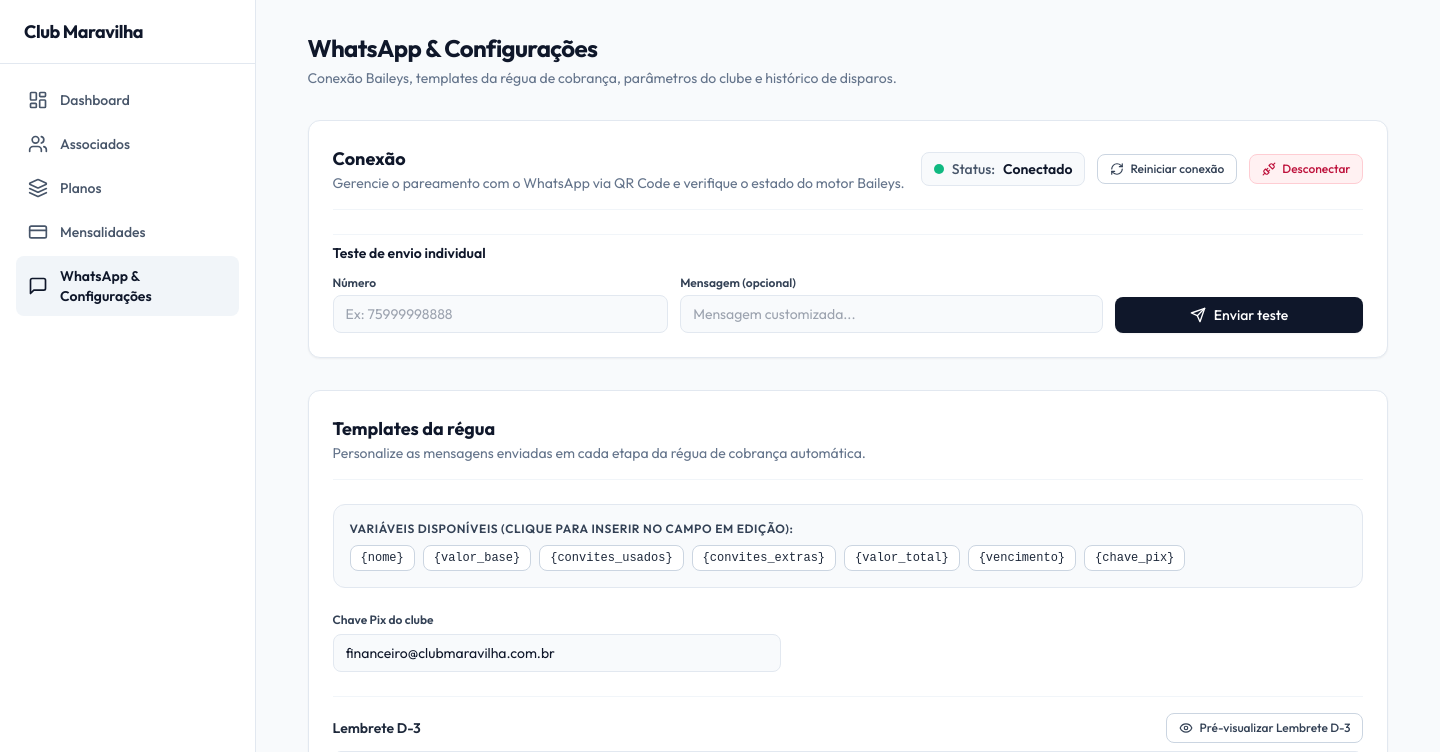
Test: WhatsAppConfigPage - teste de envio › envia número e mensagem e mostra sucesso
Type "75999998888" into the field labelled "Número" at (500, 314), box [332,295,668,333]
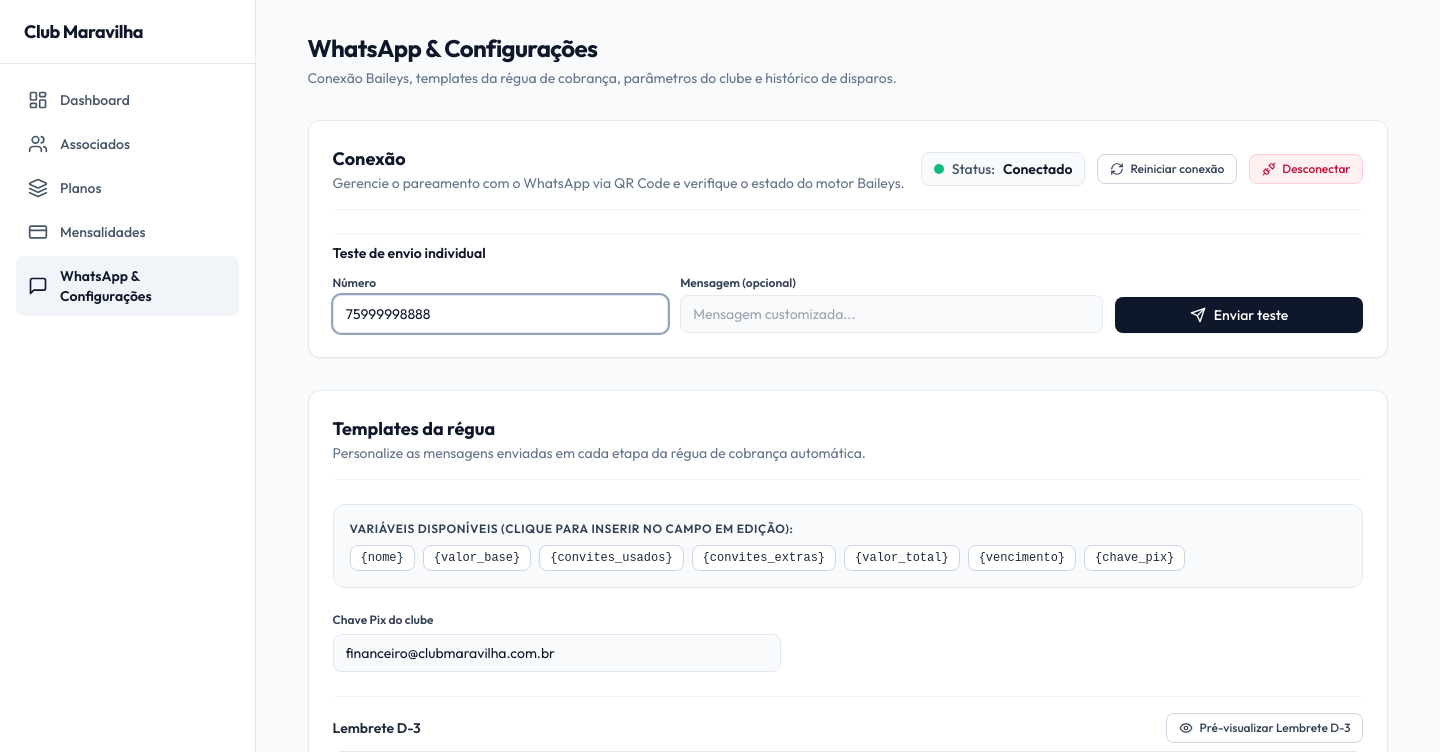
Type "Olá teste" into the field labelled "Mensagem (opcional)" at (891, 314), box [680,295,1103,333]
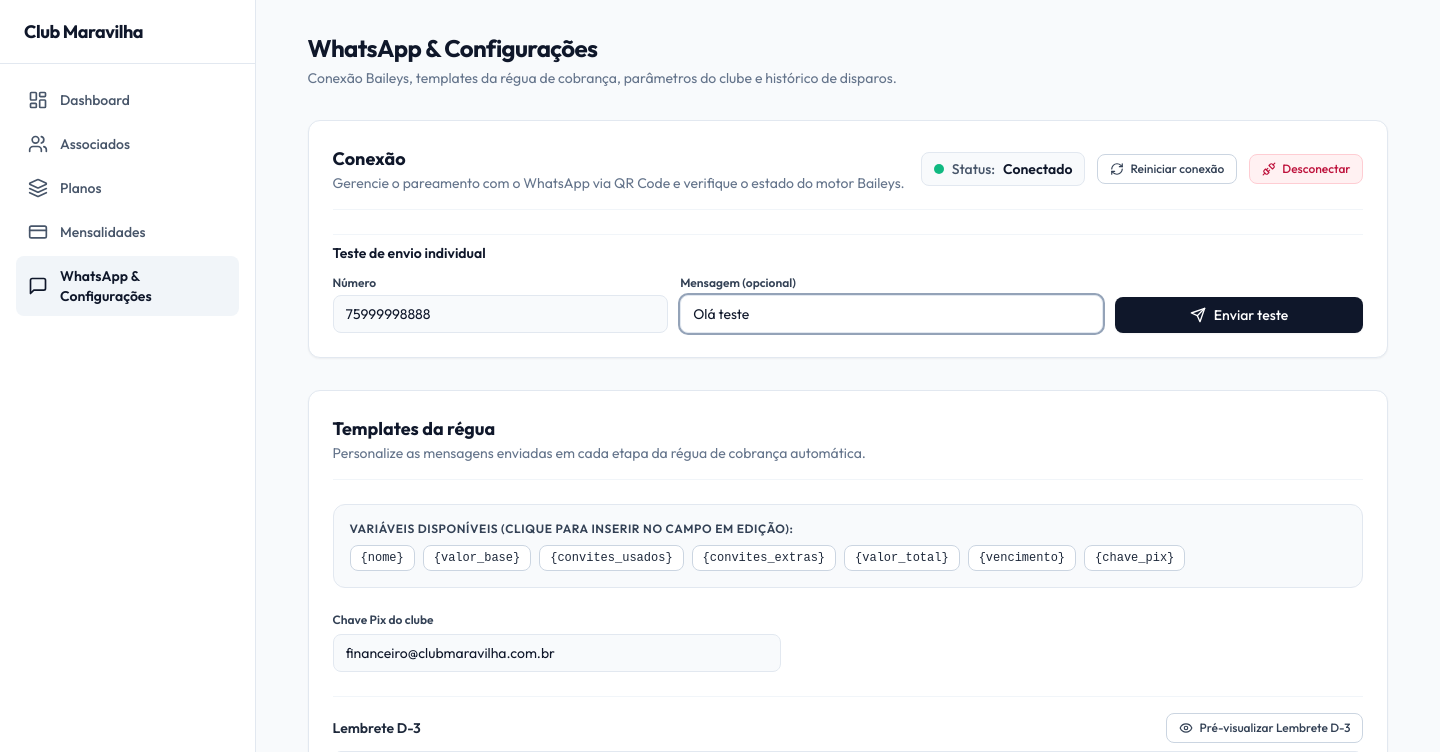
Click the button "Enviar teste" at (1239, 315), box [1115,297,1363,333]
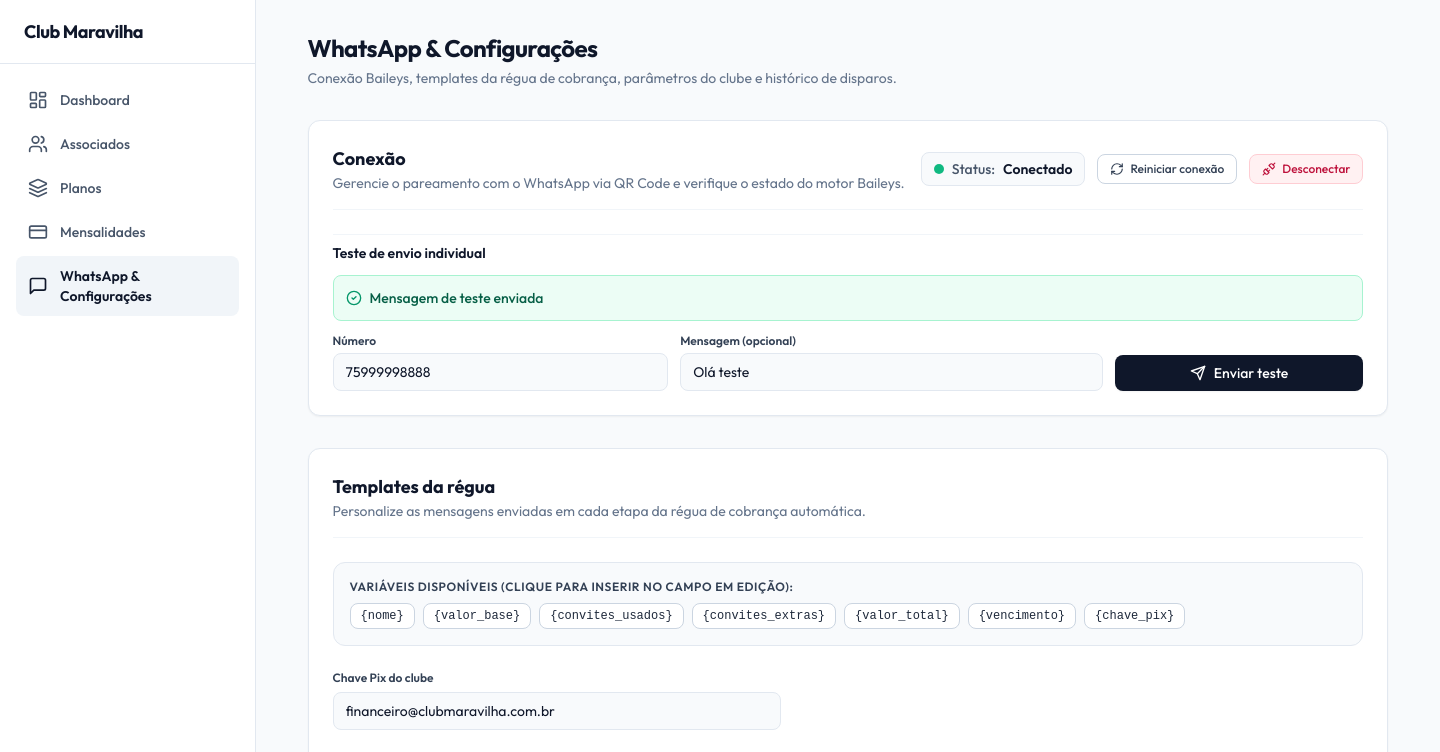
Expected: the text "Mensagem de teste enviada" is shown, [370,289,543,307]
